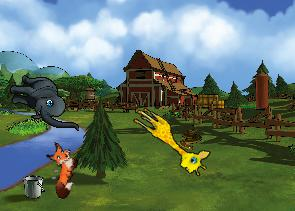elephant: (9, 75, 79, 131)
fox: (35, 140, 84, 200)
giraffe: (124, 103, 215, 180)
